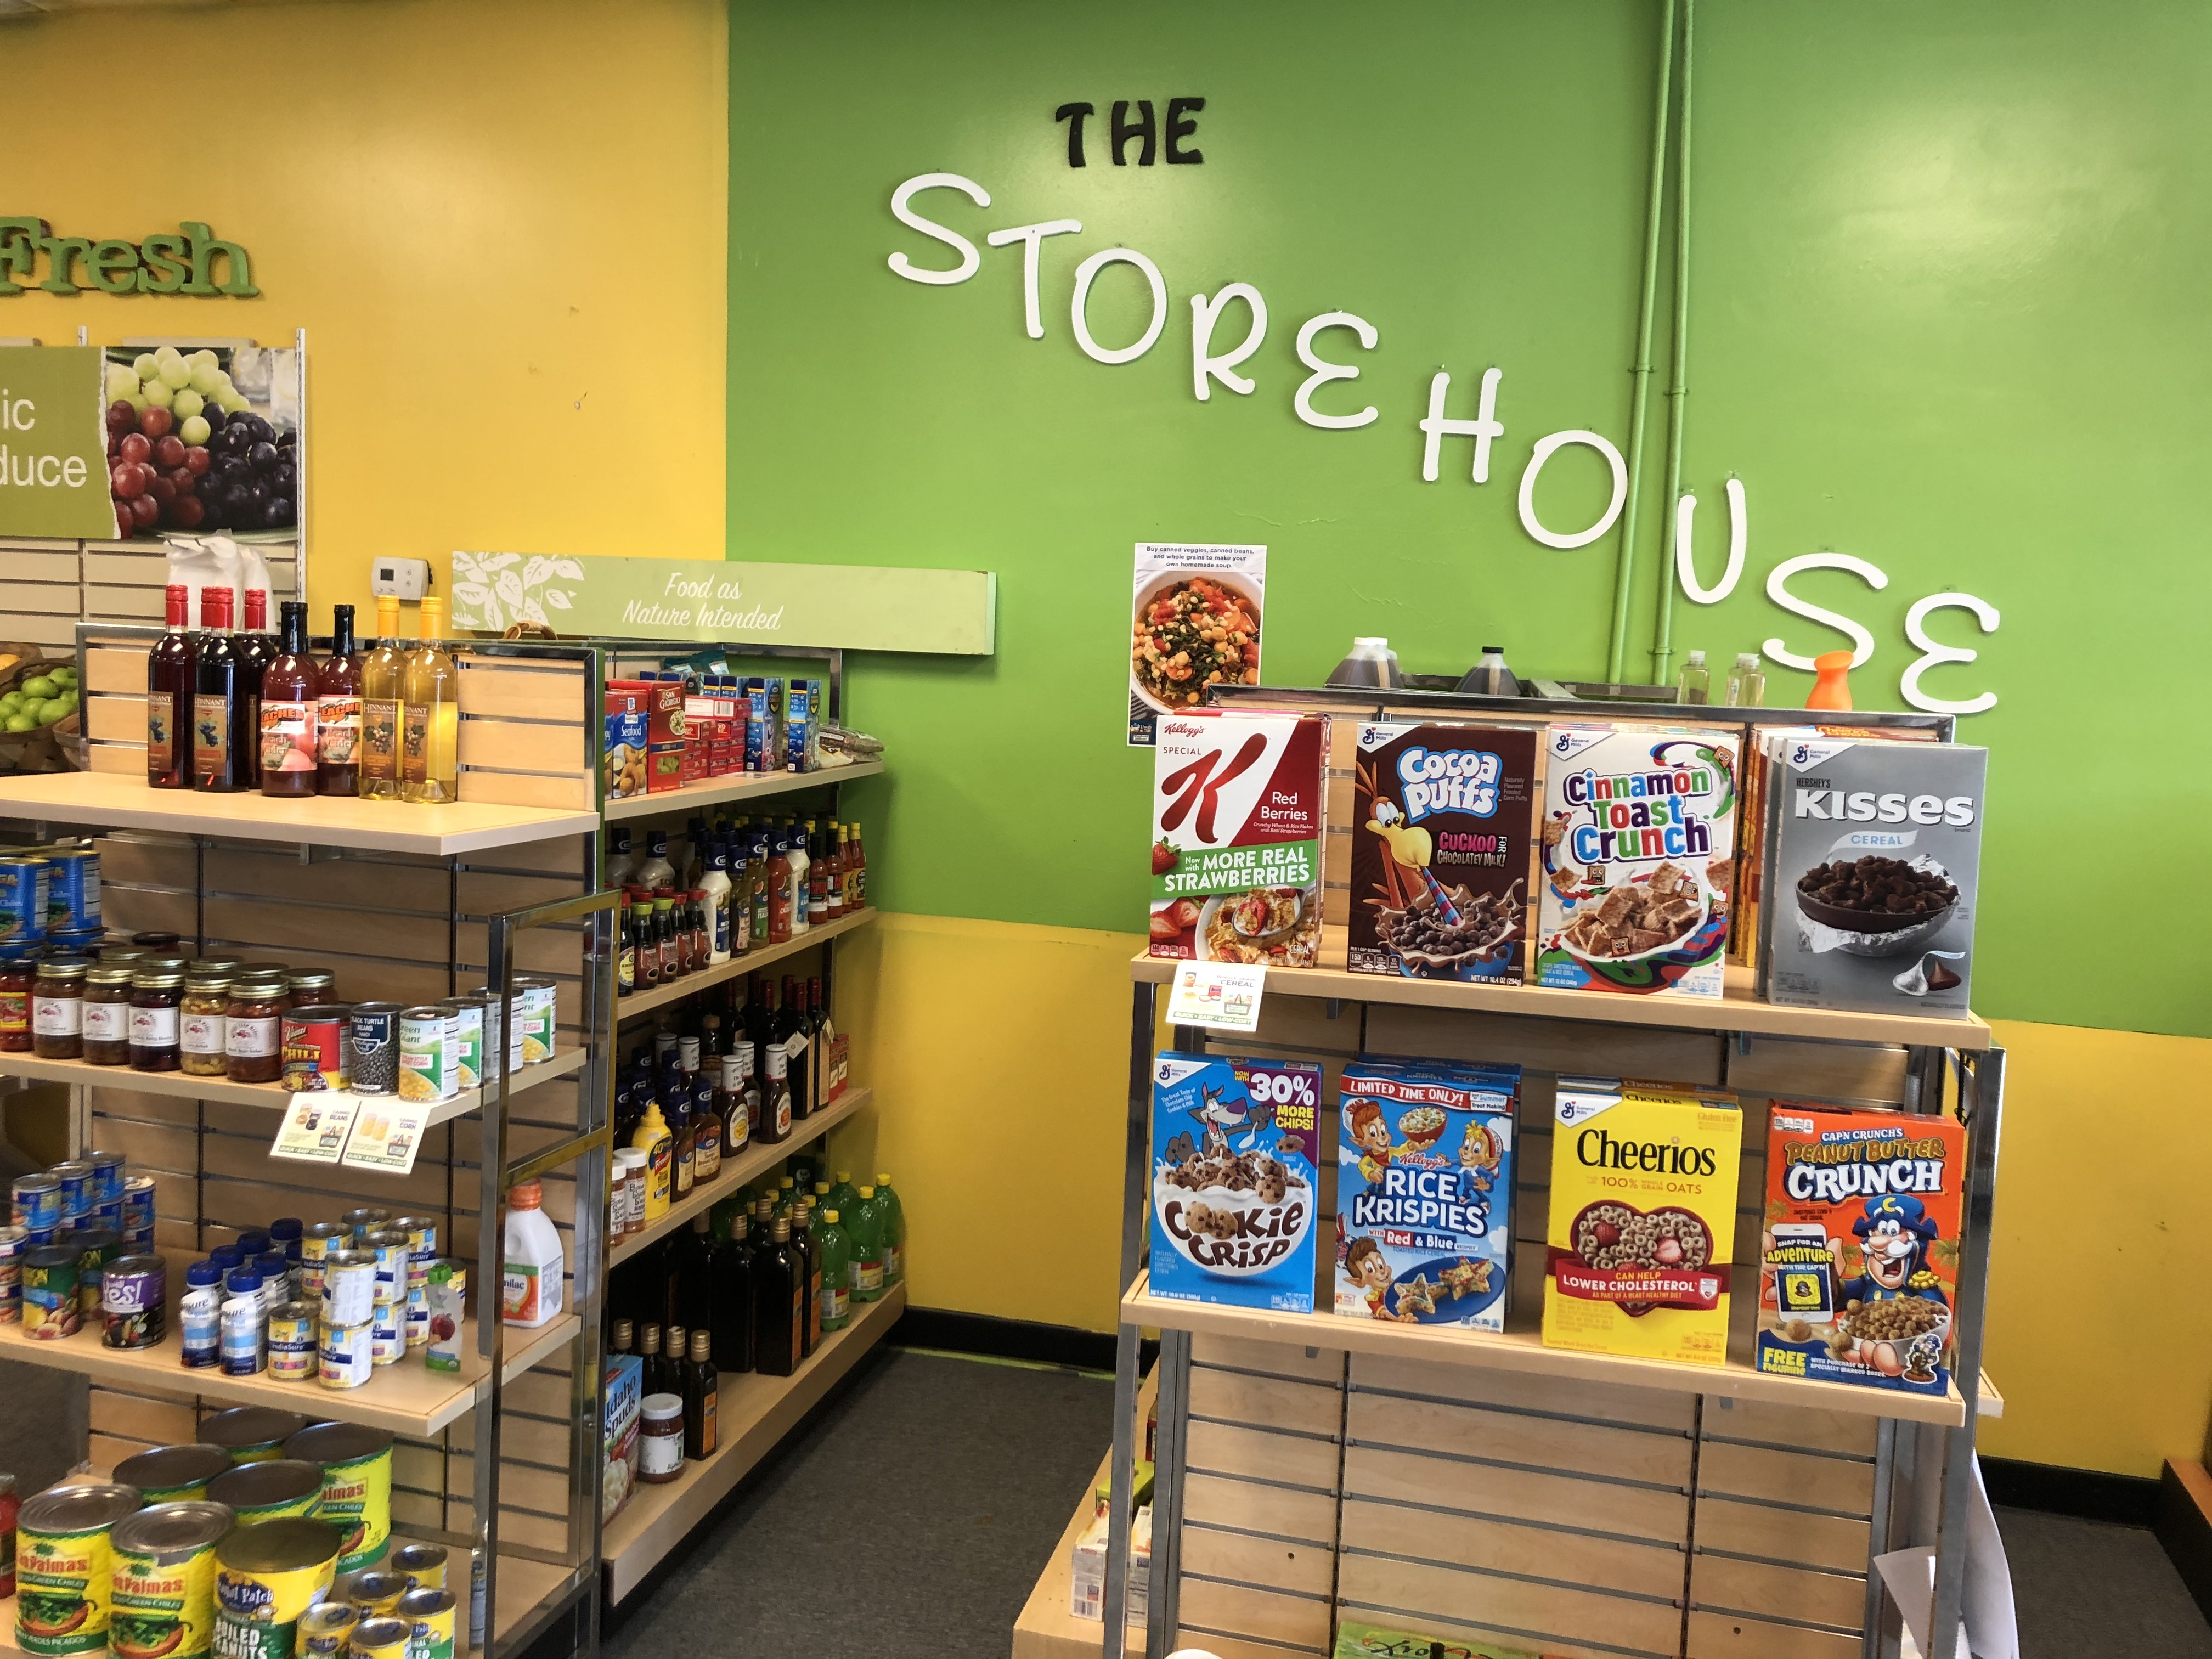cereal: (1773, 1114, 1949, 1392), (1552, 1093, 1730, 1368), (1550, 739, 1723, 999), (1338, 1080, 1507, 1338), (1355, 725, 1527, 971), (1157, 1063, 1310, 1309), (1157, 720, 1312, 962)
